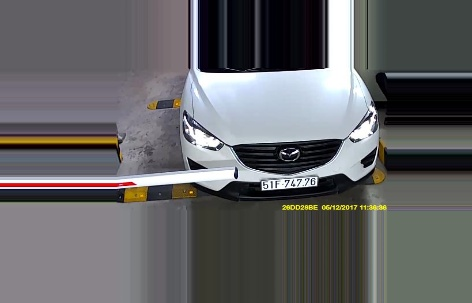plate: (260, 175, 317, 189)
